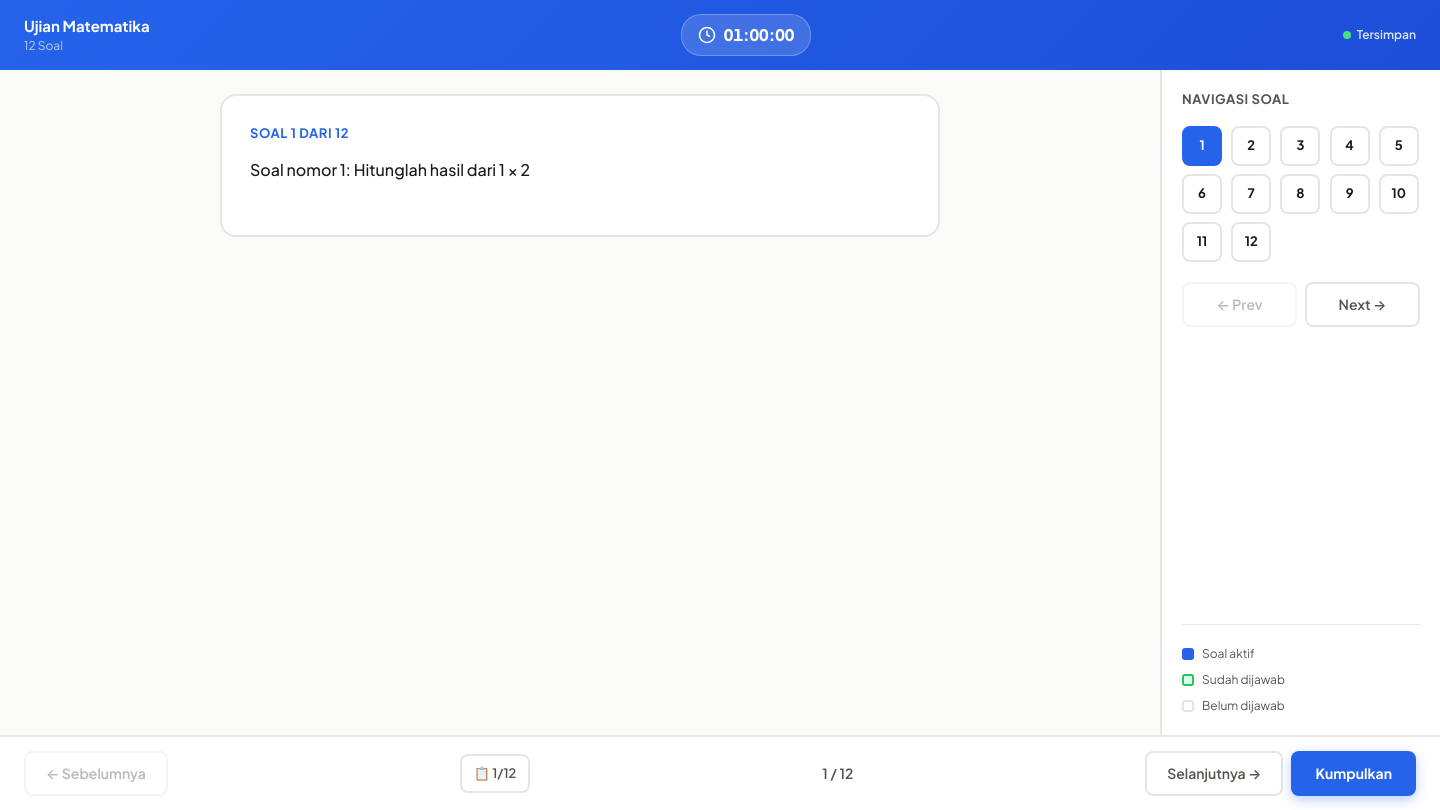
Test case: Preservation: Desktop Sidebar Layout › should navigate to selected question when clicking in sidebar
Expected: the text "Soal 1 dari 12" is shown, [250,125,349,141]
Click on question 5 in navigation
Click the button "5".
click(1399, 146)  # box [1379,126,1419,166]
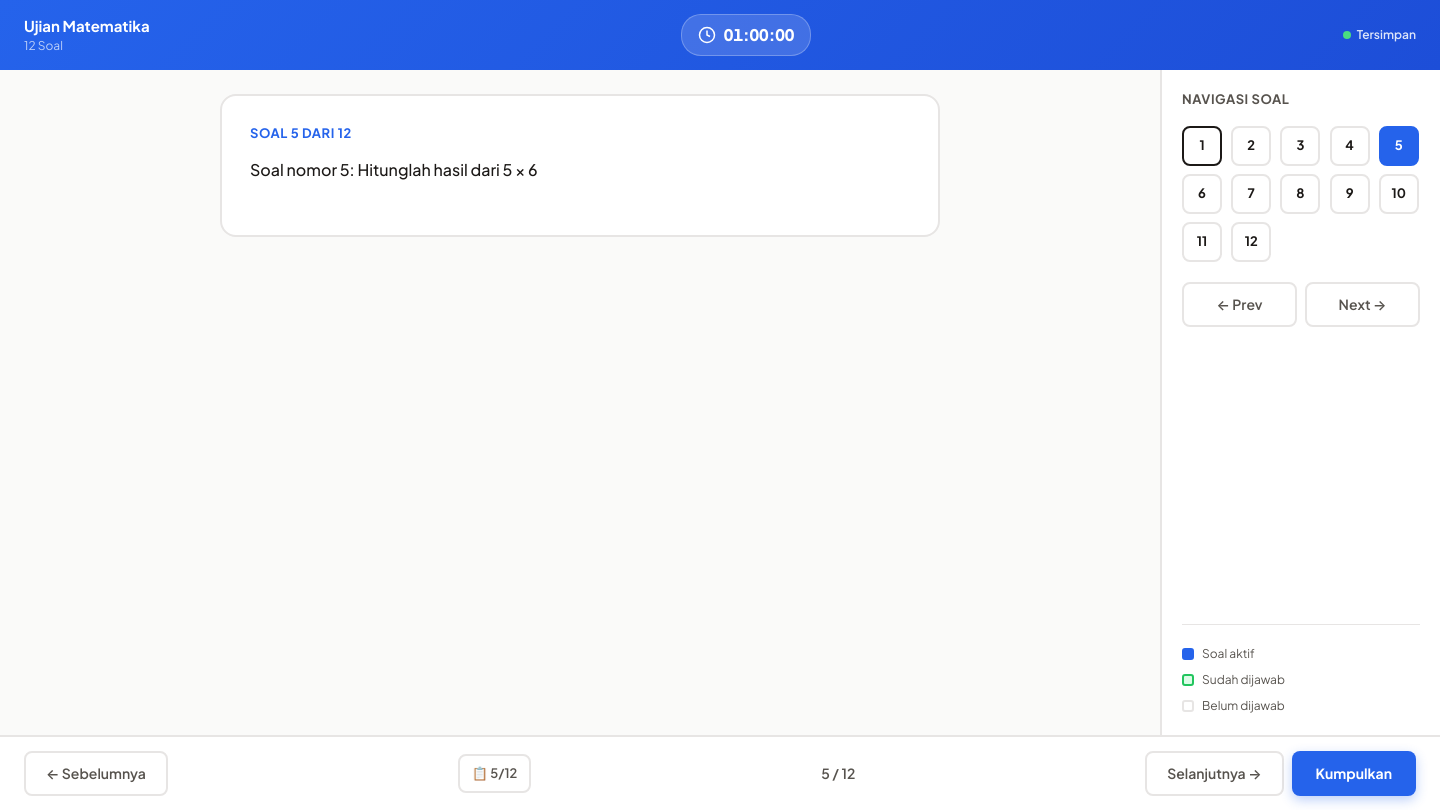
Result: the text "Soal 5 dari 12" is shown at [250,125,352,141]
Result: the text "Soal nomor 5: Hitunglah hasil dari 5 × 6" is shown at [250,158,538,180]
